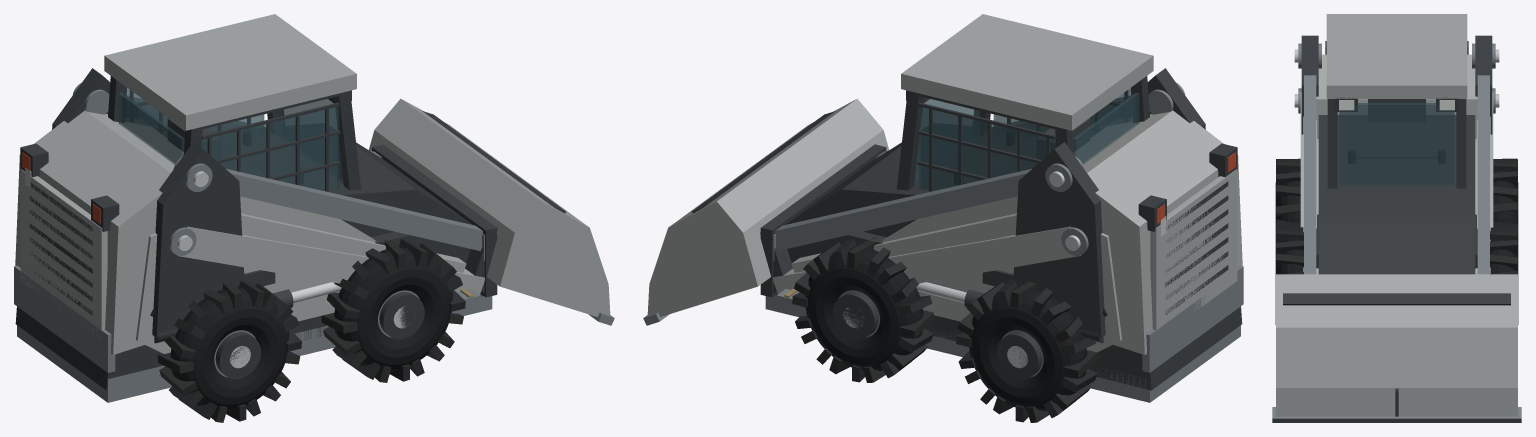
The model's file is bobcat-s76-2-structural-study.glb.
3 views of the same model, side by side, from view 1: azimuth 30°, elevation 25°; view 2: azimuth 150°, elevation 25°; view 3: azimuth 270°, elevation 25° (orthographic). The views are drawn at different scales.
Visible parts, largest first — view 1: Standard74BucketShell_Reconstructed, CabRoof, EngineHousing_Upper, Chassis_MainMonocoque, LiftTower_L, RearServiceDoor, Tire_Rear_L, Tire_Front_L, VerticalLift_UpperLink_L, CabSideGlass_L, VerticalLift_MainArm_L, SideServicePanel_L (+19 smaller); view 2: Standard74BucketShell_Reconstructed, CabRoof, EngineHousing_Upper, Chassis_MainMonocoque, LiftTower_R, RearServiceDoor, Tire_Rear_R, Tire_Front_R, VerticalLift_UpperLink_R, CabSideGlass_R, VerticalLift_MainArm_R, SideServicePanel_R (+20 smaller); view 3: Standard74BucketShell_Reconstructed, Chassis_MainMonocoque, CabRoof, CabFrontDoorGlass, BucketTopTorqueTube, VerticalLift_UpperLink_L, VerticalLift_UpperLink_R, BucketCuttingEdge, EngineHousing_Upper, OperatorSeatBack, LiftTower_L, LiftTower_R (+20 smaller).
Boxes of the visible parts, x1,y1,x2,y2 form: Standard74BucketShell_Reconstructed: [369, 98, 610, 316]; CabRoof: [104, 14, 356, 130]; EngineHousing_Upper: [15, 110, 183, 354]; Chassis_MainMonocoque: [15, 128, 482, 390]; LiftTower_L: [152, 142, 244, 337]; RearServiceDoor: [20, 169, 107, 339]; Tire_Rear_L: [170, 287, 289, 411]; Tire_Front_L: [334, 247, 452, 371]; VerticalLift_UpperLink_L: [226, 169, 482, 251]; CabSideGlass_L: [201, 106, 338, 190]; VerticalLift_MainArm_L: [177, 226, 484, 294]; SideServicePanel_L: [136, 196, 376, 353]; Standard74BucketShell_Reconstructed: [647, 98, 888, 316]; CabRoof: [901, 14, 1153, 130]; EngineHousing_Upper: [1074, 110, 1242, 354]; Chassis_MainMonocoque: [775, 128, 1242, 390]; LiftTower_R: [1013, 142, 1105, 337]; RearServiceDoor: [1150, 169, 1237, 330]; Tire_Rear_R: [969, 287, 1087, 410]; Tire_Front_R: [805, 247, 923, 370]; VerticalLift_UpperLink_R: [775, 169, 1031, 250]; CabSideGlass_R: [919, 106, 1056, 190]; VerticalLift_MainArm_R: [773, 226, 1080, 294]; SideServicePanel_R: [881, 196, 1121, 352]; Standard74BucketShell_Reconstructed: [1276, 274, 1517, 416]; Chassis_MainMonocoque: [1318, 115, 1475, 274]; CabRoof: [1326, 14, 1467, 98]; CabFrontDoorGlass: [1339, 103, 1454, 185]; BucketTopTorqueTube: [1283, 293, 1510, 305]; VerticalLift_UpperLink_L: [1304, 75, 1316, 274]; VerticalLift_UpperLink_R: [1477, 75, 1489, 274]; BucketCuttingEdge: [1272, 407, 1521, 422]; EngineHousing_Upper: [1316, 54, 1477, 138]; OperatorSeatBack: [1368, 99, 1425, 122]; LiftTower_L: [1301, 35, 1318, 134]; LiftTower_R: [1475, 35, 1492, 134].
Bounding box in the file's own units: 3.61 × 2.08 × 1.88.
